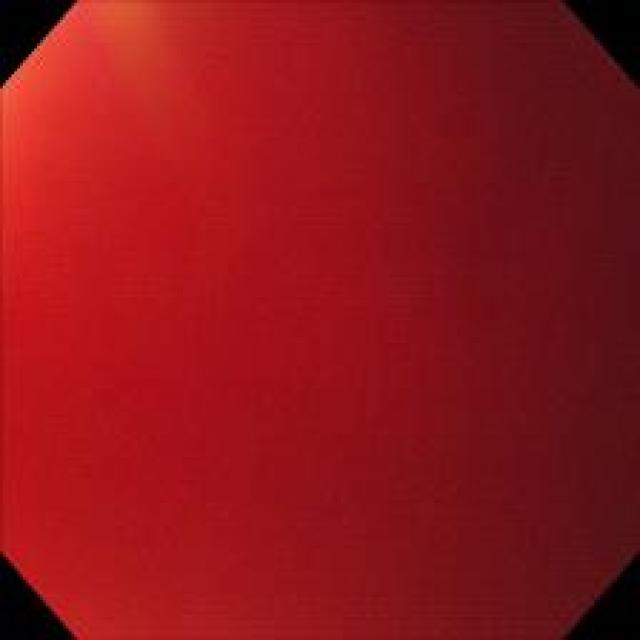color misalignment: (5, 16, 628, 619)
